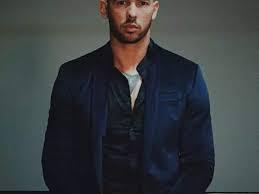Persons: (95, 0, 169, 49)
